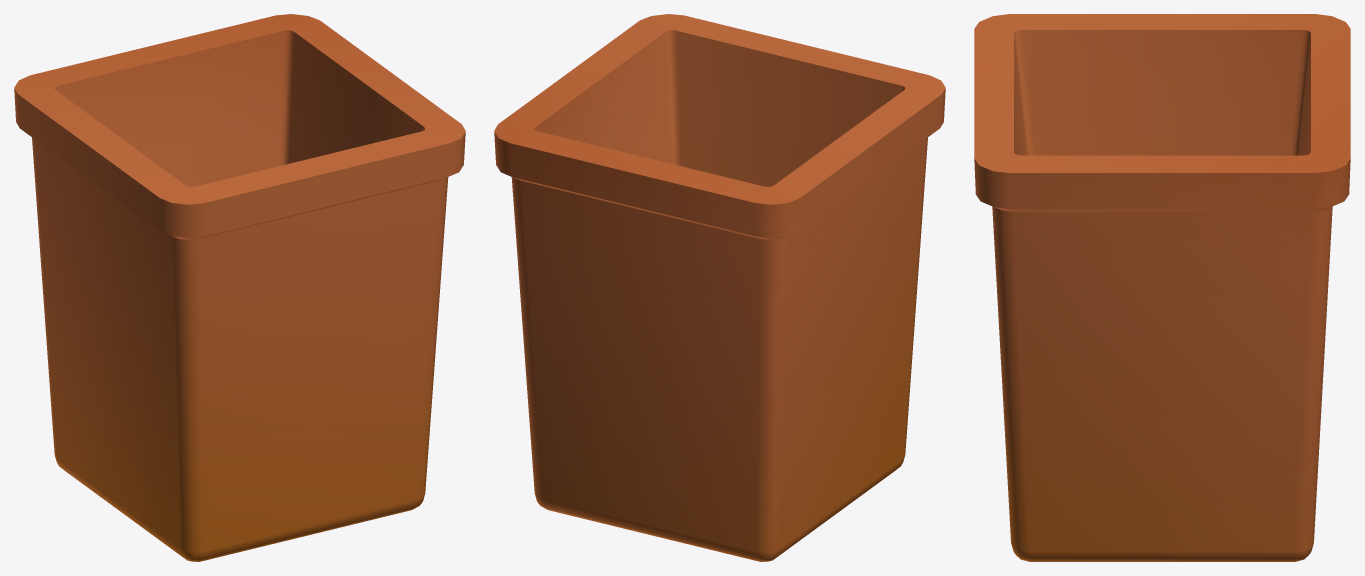
Rendered from Waste Bin_2.fbx.
The picture shows the model from 3 angles, left to right: view 1: azimuth 30°, elevation 25°; view 2: azimuth 150°, elevation 25°; view 3: azimuth 270°, elevation 25°; orthographic projection. The views are drawn at different scales.
Visible parts, largest first — view 1: Waste Bin_2; view 2: Waste Bin_2; view 3: Waste Bin_2.
Part boxes in pixels (bbox=[...]): Waste Bin_2: bbox=[14, 14, 465, 561]; Waste Bin_2: bbox=[494, 14, 945, 561]; Waste Bin_2: bbox=[974, 14, 1350, 561].
Size of the model in its own units: 0.6333 by 0.764 by 0.6333.
1 material, 1 textured.
